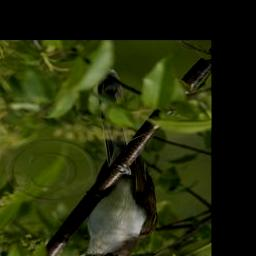Cuckoo: (71, 95, 156, 256)
